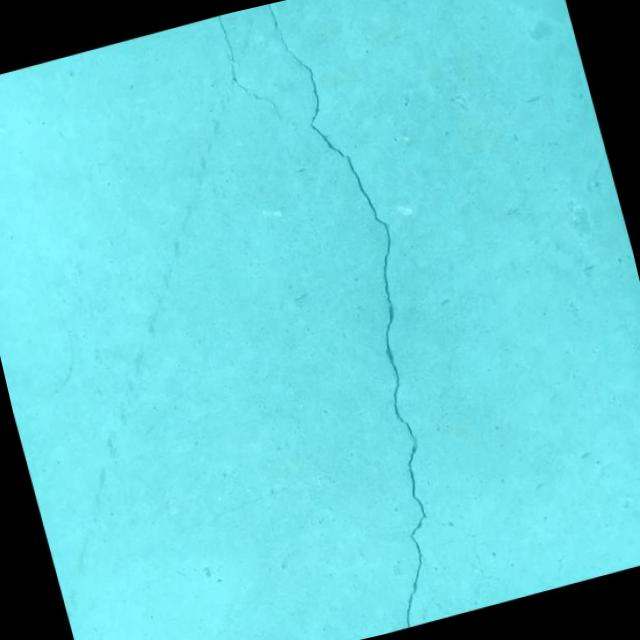crack: (242, 0, 495, 633), (215, 6, 282, 130)
